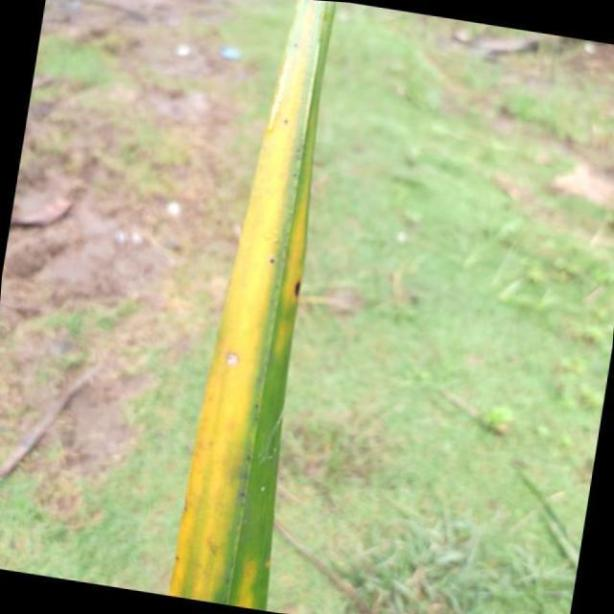Megnesium: (166, 0, 336, 614)
